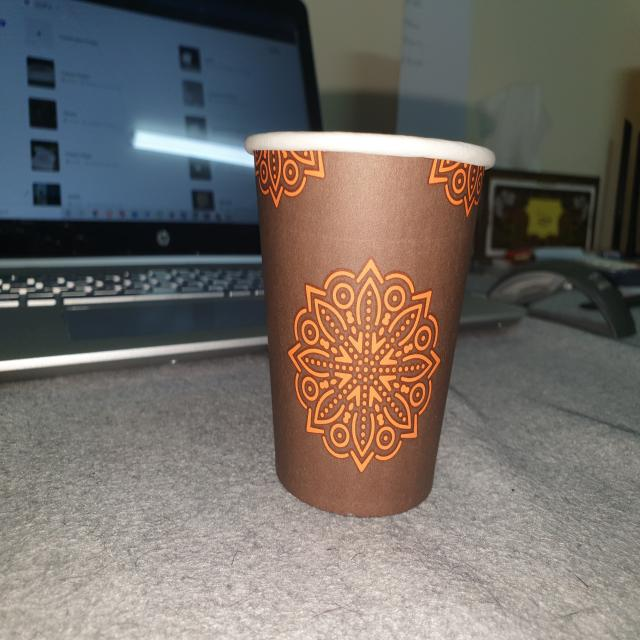cups: (218, 120, 510, 526)
